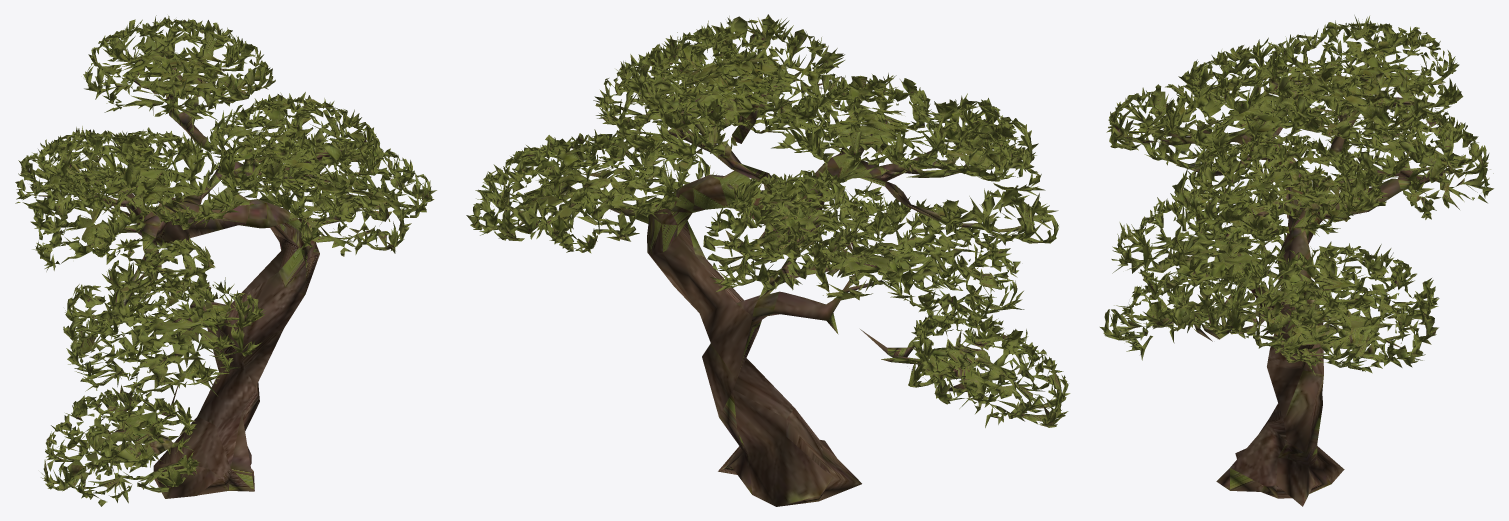
The model's file is lib_tp_kuromatsu.near.glb.
3 views of the same model, side by side, from view 1: azimuth 30°, elevation 25°; view 2: azimuth 150°, elevation 25°; view 3: azimuth 270°, elevation 25° (orthographic). The views are drawn at different scales.
Bounding box in the file's own units: 1.88 × 1.72 × 1.36.
Materials: 1 (1 with a texture image).
